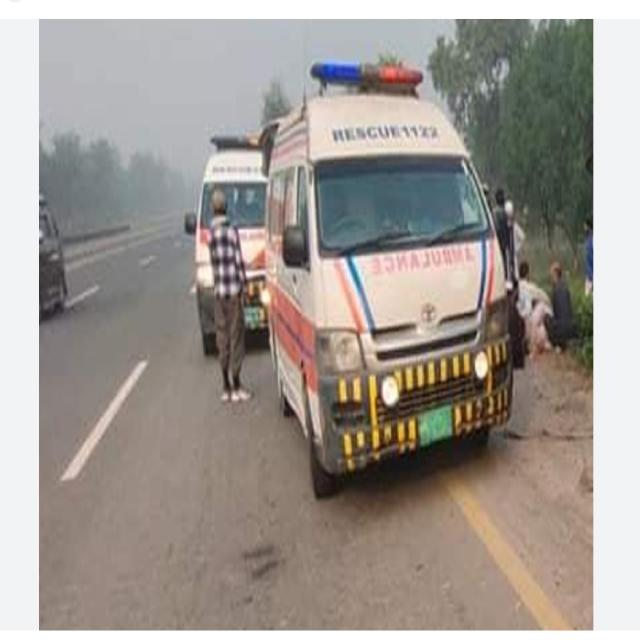ambulance: (272, 93, 501, 446), (182, 116, 277, 342)
